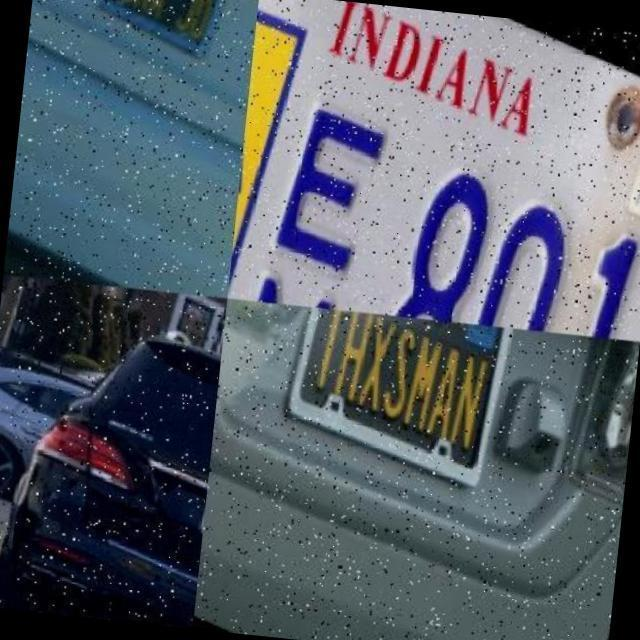License Plate: (226, 58, 640, 342), (260, 304, 532, 496), (89, 1, 233, 52)
